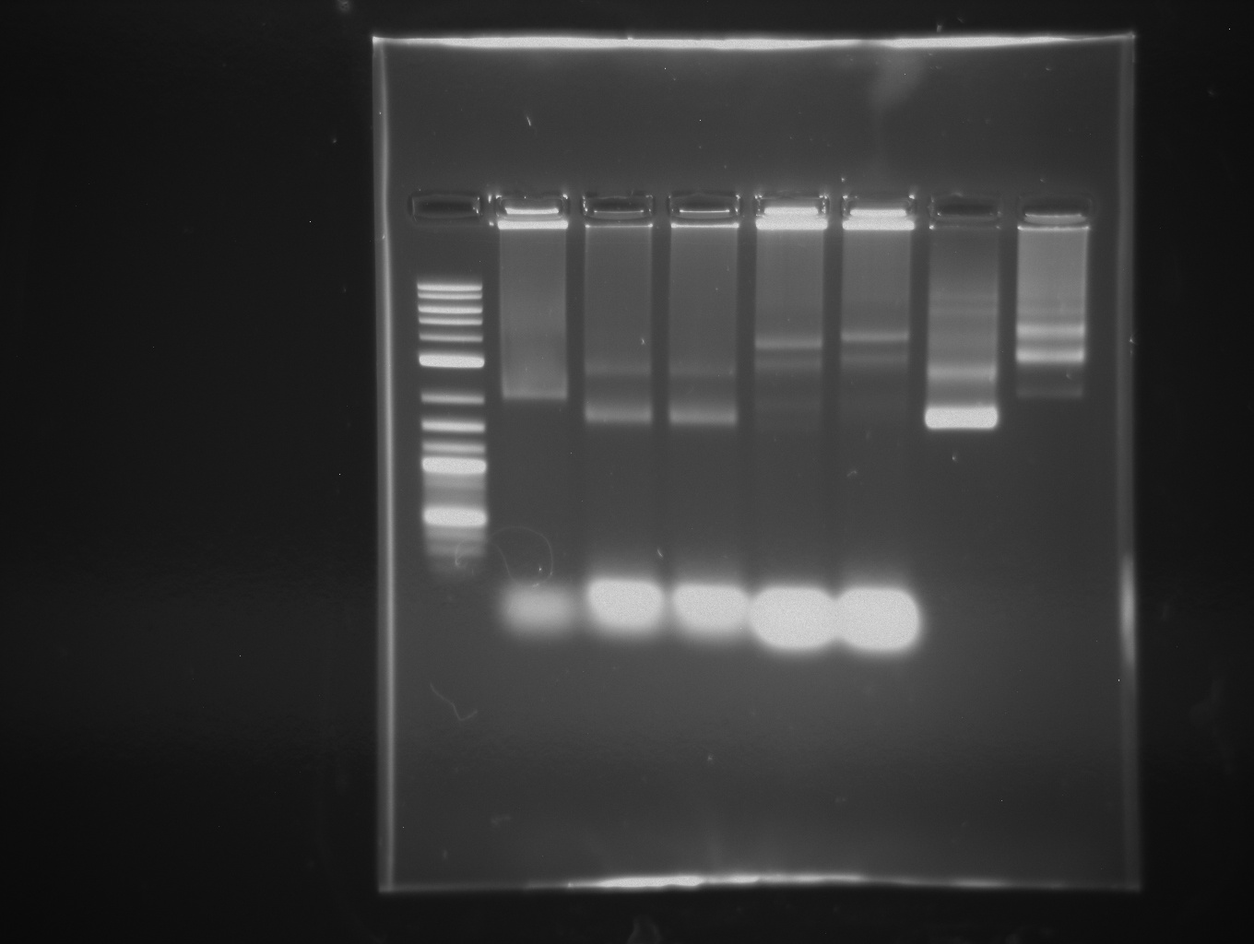Lane: (839, 88, 920, 872), (1014, 94, 1093, 859), (498, 94, 576, 863), (927, 88, 1002, 867), (581, 99, 656, 868), (668, 106, 742, 867), (756, 89, 829, 860)
ladder: (413, 88, 488, 857)
